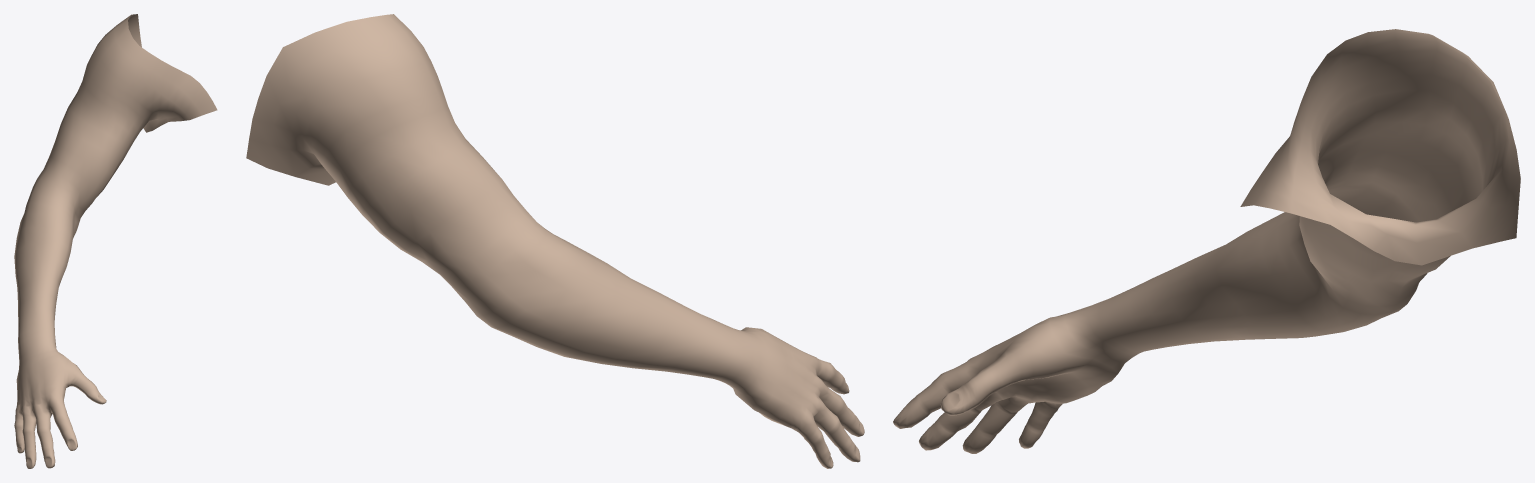
Rendered from BRAZO_PULGAR_ARRIBA.fbx.
The picture shows the model from 3 angles, left to right: view 1: azimuth 30°, elevation 25°; view 2: azimuth 150°, elevation 25°; view 3: azimuth 270°, elevation 25°; orthographic projection. The views are drawn at different scales.
Visible parts, largest first — view 1: BRAZO_PULGAR_ARRIBA; view 2: BRAZO_PULGAR_ARRIBA; view 3: BRAZO_PULGAR_ARRIBA.
Boxes of the visible parts, x1,y1,x2,y2 form: BRAZO_PULGAR_ARRIBA: [14, 14, 217, 468]; BRAZO_PULGAR_ARRIBA: [246, 14, 864, 468]; BRAZO_PULGAR_ARRIBA: [893, 29, 1520, 453].
Bounding box in the file's own units: 45.82 × 53.32 × 48.45.
